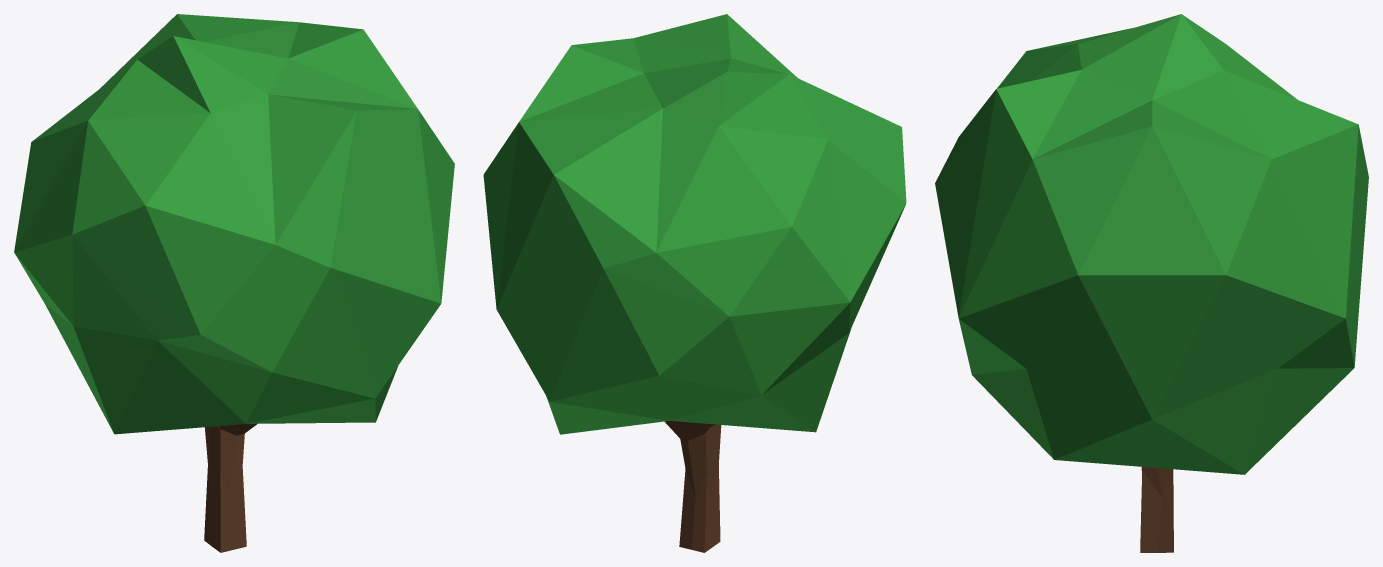
File: Tree_12_Green.fbx
3 renders of one model, left to right at view 1: azimuth 30°, elevation 25°; view 2: azimuth 150°, elevation 25°; view 3: azimuth 270°, elevation 25°, orthographic. The views are drawn at different scales.
Visible parts, largest first — view 1: Tree_12_Green_Part_1, Tree_12_Green_Part_2; view 2: Tree_12_Green_Part_1, Tree_12_Green_Part_2; view 3: Tree_12_Green_Part_1, Tree_12_Green_Part_2.
Part boxes in pixels (x1,y1,x2,y2): Tree_12_Green_Part_1: [14, 14, 454, 434]; Tree_12_Green_Part_2: [204, 423, 257, 552]; Tree_12_Green_Part_1: [483, 14, 906, 434]; Tree_12_Green_Part_2: [664, 421, 721, 552]; Tree_12_Green_Part_1: [935, 14, 1368, 474]; Tree_12_Green_Part_2: [1140, 467, 1173, 552].
Bounding box in the file's own units: 583 × 758 × 582.
